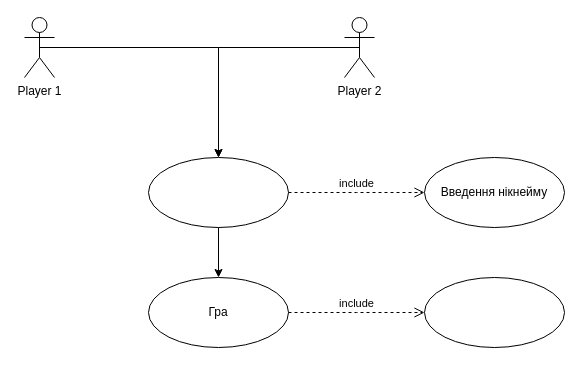
Some shapes in this 582 by 365 pixel diagram are drawn without their labels. Here are the shapes that lost their labels. From the top down, the box of each, then its label:
(148, 156, 288, 228): Авторизація
(424, 276, 564, 348): Введення літери
